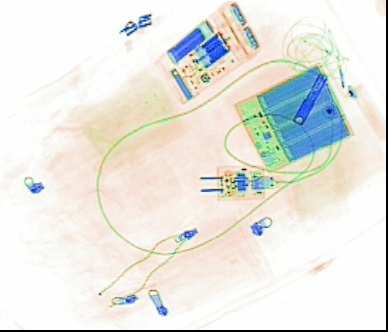powerbank: (230, 57, 354, 172)
